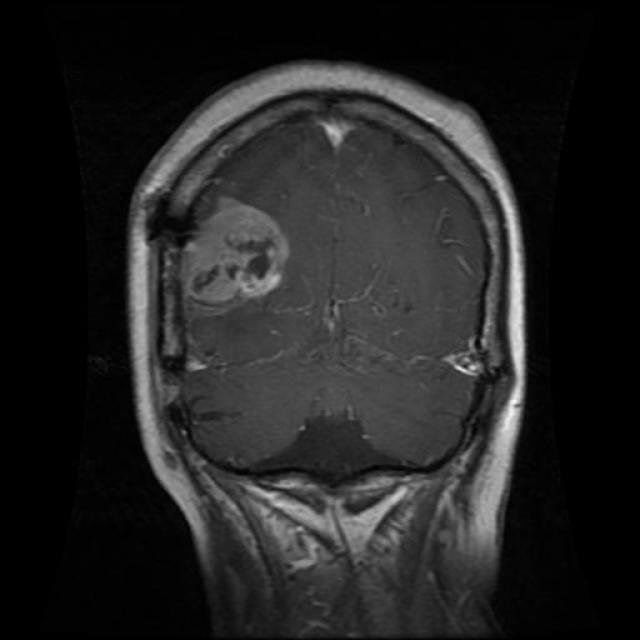glioma: (184, 195, 288, 306)
